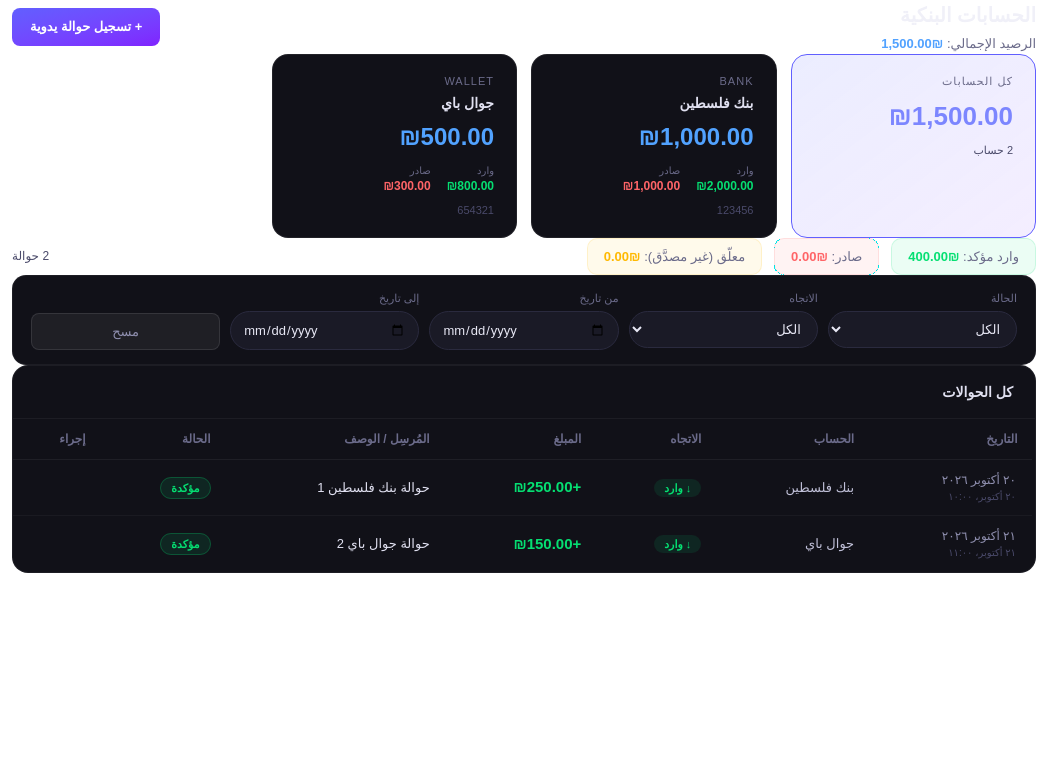
Test: BanksManager Account and Filter Integration › re-queries transfers when direction filter is changed
Expected: the text "حوالة بنك فلسطين 1" is shown, [317, 480, 430, 495]
// Change direction filter to "out" (صادر)
Select "صادر" in the 1st dropdown. click: coordinates (723, 329)
box: [629, 310, 818, 348]
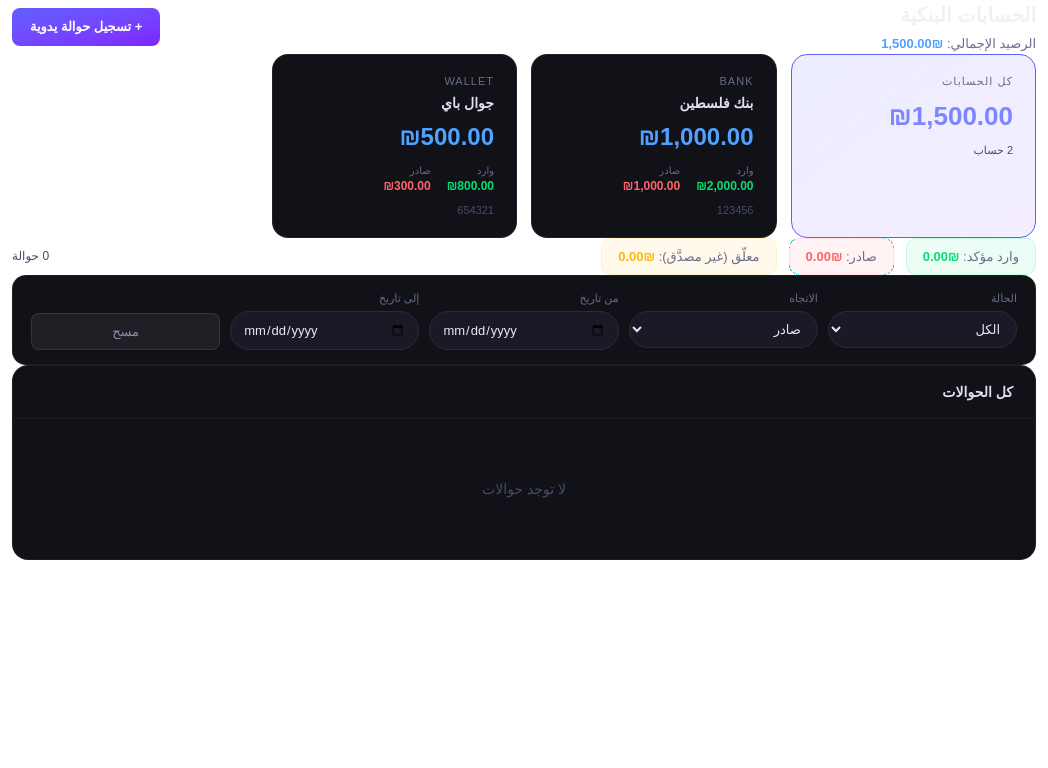
Expected: the text "حوالة بنك فلسطين 1" is gone
Expected: the text "لا توجد حوالات" is shown, [482, 481, 566, 497]
